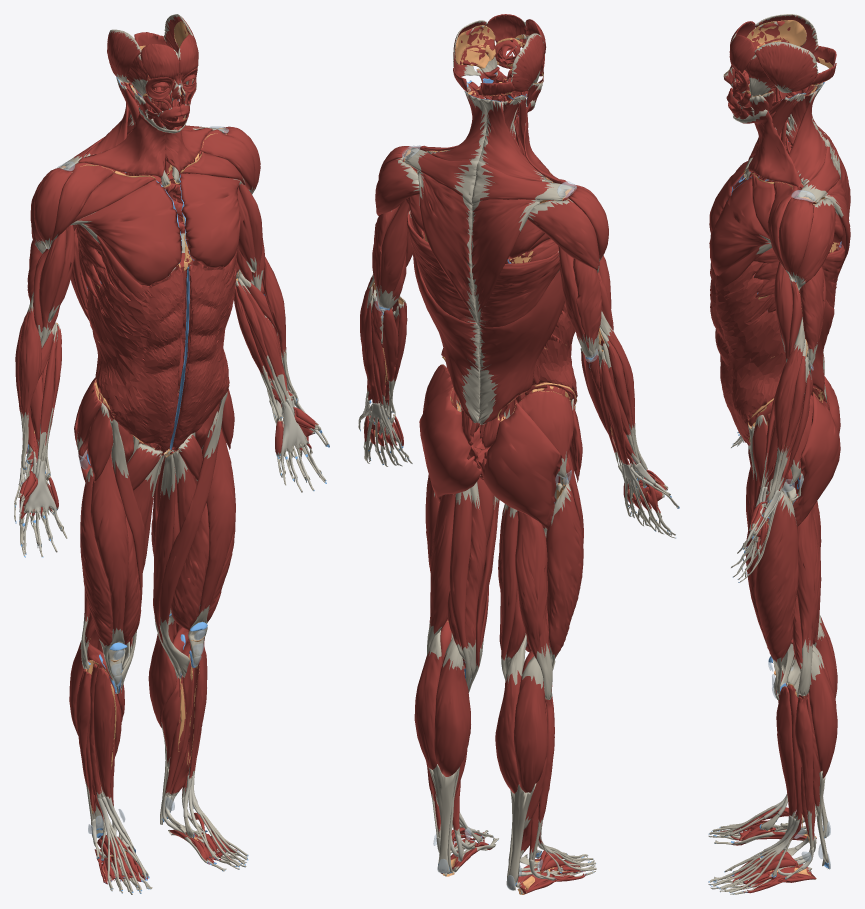
File: adult_male.muscular.LOD1.glb
3 views of the same model, side by side, from view 1: azimuth 30°, elevation 25°; view 2: azimuth 150°, elevation 25°; view 3: azimuth 270°, elevation 25° (orthographic).
Visible parts, largest first — view 1: ADULT.MALE.MUSCULAR.EXTERNAL_ABDOMINAL_OBLIQUE_MUSCLE.R, ADULT.MALE.MUSCULAR.STERNOCOSTAL_HEAD_OF_PECTORALIS_MAJOR_MU (×2), ADULT.MALE.MUSCULAR.EXTERNAL_ABDOMINAL_OBLIQUE_MUSCLE.L, ADULT.MALE.MUSCULAR.RECTUS_FEMORIS_MUSCLE.R, ADULT.MALE.MUSCULAR.RECTUS_FEMORIS_MUSCLE.L, ADULT.MALE.MUSCULAR.SARTORIUS_MUSCLE.L, ADULT.MALE.MUSCULAR.VASTUS_LATERALIS_MUSCLE.R, ADULT.MALE.MUSCULAR.PLATYSMA.R, ADULT.MALE.MUSCULAR.VASTUS_MEDIALIS_MUSCLE.L, ADULT.MALE.MUSCULAR.GRACILIS_MUSCLE.L, ADULT.MALE.MUSCULAR.CLAVICULAR_HEAD_OF_PECTORALIS_MAJOR_MUSC (×2), ADULT.MALE.MUSCULAR.SARTORIUS_MUSCLE.R (+42 smaller); view 2: ADULT.MALE.MUSCULAR.LATISSIMUS_DORSI_MUSCLE.R, ADULT.MALE.MUSCULAR.GLUTEUS_MAXIMUS_MUSCLE.R, ADULT.MALE.MUSCULAR.LATISSIMUS_DORSI_MUSCLE.L, ADULT.MALE.MUSCULAR.DESCENDING_PART_OF_TRAPEZIUS_MUSCLE.L, ADULT.MALE.MUSCULAR.VASTUS_LATERALIS_MUSCLE.R, ADULT.MALE.MUSCULAR.LONG_HEAD_OF_BICEPS_FEMORIS.R, ADULT.MALE.MUSCULAR.GLUTEUS_MAXIMUS_MUSCLE.L, ADULT.MALE.MUSCULAR.DESCENDING_PART_OF_TRAPEZIUS_MUSCLE.R, ADULT.MALE.MUSCULAR.MEDIAL_HEAD_OF_GASTROCNEMIUS.L, ADULT.MALE.MUSCULAR.LATERAL_HEAD_OF_GASTROCNEMIUS.R, ADULT.MALE.MUSCULAR.SCAPULAR_SPINAL_PART_OF_DELTOID_MUSCLE.R, ADULT.MALE.MUSCULAR.SEMITENDINOSUS_MUSCLE.L (+34 smaller); view 3: ADULT.MALE.MUSCULAR.EXTERNAL_ABDOMINAL_OBLIQUE_MUSCLE.L, ADULT.MALE.MUSCULAR.VASTUS_LATERALIS_MUSCLE.L, ADULT.MALE.MUSCULAR.STERNOCOSTAL_HEAD_OF_PECTORALIS_MAJOR_MU (×2), ADULT.MALE.MUSCULAR.GLUTEUS_MAXIMUS_MUSCLE.L, ADULT.MALE.MUSCULAR.LONG_HEAD_OF_BICEPS_FEMORIS.L, ADULT.MALE.MUSCULAR.TEMPOROPARIETALIS_MUSCLE.L, ADULT.MALE.MUSCULAR.LATERAL_HEAD_OF_GASTROCNEMIUS.L, ADULT.MALE.MUSCULAR.PLATYSMA.L, ADULT.MALE.MUSCULAR.BRACHIORADIALIS_MUSCLE.L, ADULT.MALE.MUSCULAR.ACROMIAL_PART_OF_DELTOID_MUSCLE.L, ADULT.MALE.MUSCULAR.SCAPULAR_SPINAL_PART_OF_DELTOID_MUSCLE.L, ADULT.MALE.MUSCULAR.ASCENDING_PART_OF_TRAPEZIUS_MUSCLE.L (+40 smaller).
Part boxes in pixels (x1,y1,x2,y2): ADULT.MALE.MUSCULAR.EXTERNAL_ABDOMINAL_OBLIQUE_MUSCLE.R: (87,251,183,443); ADULT.MALE.MUSCULAR.STERNOCOSTAL_HEAD_OF_PECTORALIS_MAJOR_MU (×2): (70,173,241,285); ADULT.MALE.MUSCULAR.EXTERNAL_ABDOMINAL_OBLIQUE_MUSCLE.L: (176,257,236,440); ADULT.MALE.MUSCULAR.RECTUS_FEMORIS_MUSCLE.R: (90,443,128,686); ADULT.MALE.MUSCULAR.RECTUS_FEMORIS_MUSCLE.L: (188,411,235,667); ADULT.MALE.MUSCULAR.SARTORIUS_MUSCLE.L: (159,392,227,677); ADULT.MALE.MUSCULAR.VASTUS_LATERALIS_MUSCLE.R: (80,467,113,679); ADULT.MALE.MUSCULAR.PLATYSMA.R: (78,107,177,177); ADULT.MALE.MUSCULAR.VASTUS_MEDIALIS_MUSCLE.L: (171,503,209,651); ADULT.MALE.MUSCULAR.GRACILIS_MUSCLE.L: (153,451,180,678); ADULT.MALE.MUSCULAR.CLAVICULAR_HEAD_OF_PECTORALIS_MAJOR_MUSC (×2): (71,151,245,223); ADULT.MALE.MUSCULAR.SARTORIUS_MUSCLE.R: (109,418,144,692); ADULT.MALE.MUSCULAR.LATISSIMUS_DORSI_MUSCLE.R: (478,250,564,424); ADULT.MALE.MUSCULAR.GLUTEUS_MAXIMUS_MUSCLE.R: (481,402,562,528); ADULT.MALE.MUSCULAR.LATISSIMUS_DORSI_MUSCLE.L: (406,210,480,423); ADULT.MALE.MUSCULAR.DESCENDING_PART_OF_TRAPEZIUS_MUSCLE.L: (417,170,478,326); ADULT.MALE.MUSCULAR.VASTUS_LATERALIS_MUSCLE.R: (546,477,583,667); ADULT.MALE.MUSCULAR.LONG_HEAD_OF_BICEPS_FEMORIS.R: (515,510,552,699); ADULT.MALE.MUSCULAR.GLUTEUS_MAXIMUS_MUSCLE.L: (419,387,481,501); ADULT.MALE.MUSCULAR.DESCENDING_PART_OF_TRAPEZIUS_MUSCLE.R: (471,199,542,326); ADULT.MALE.MUSCULAR.MEDIAL_HEAD_OF_GASTROCNEMIUS.L: (434,637,470,776); ADULT.MALE.MUSCULAR.LATERAL_HEAD_OF_GASTROCNEMIUS.R: (513,656,547,792); ADULT.MALE.MUSCULAR.SCAPULAR_SPINAL_PART_OF_DELTOID_MUSCLE.R: (527,198,599,272); ADULT.MALE.MUSCULAR.SEMITENDINOSUS_MUSCLE.L: (449,488,472,687); ADULT.MALE.MUSCULAR.EXTERNAL_ABDOMINAL_OBLIQUE_MUSCLE.L: (710,261,785,441); ADULT.MALE.MUSCULAR.VASTUS_LATERALIS_MUSCLE.L: (755,491,798,694); ADULT.MALE.MUSCULAR.STERNOCOSTAL_HEAD_OF_PECTORALIS_MAJOR_MU (×2): (709,161,770,275); ADULT.MALE.MUSCULAR.GLUTEUS_MAXIMUS_MUSCLE.L: (793,393,840,526); ADULT.MALE.MUSCULAR.LONG_HEAD_OF_BICEPS_FEMORIS.L: (797,508,821,696); ADULT.MALE.MUSCULAR.TEMPOROPARIETALIS_MUSCLE.L: (754,41,818,92); ADULT.MALE.MUSCULAR.LATERAL_HEAD_OF_GASTROCNEMIUS.L: (809,651,837,778); ADULT.MALE.MUSCULAR.PLATYSMA.L: (733,109,801,188); ADULT.MALE.MUSCULAR.BRACHIORADIALIS_MUSCLE.L: (767,317,804,502); ADULT.MALE.MUSCULAR.ACROMIAL_PART_OF_DELTOID_MUSCLE.L: (778,198,813,281); ADULT.MALE.MUSCULAR.SCAPULAR_SPINAL_PART_OF_DELTOID_MUSCLE.L: (796,199,835,290); ADULT.MALE.MUSCULAR.ASCENDING_PART_OF_TRAPEZIUS_MUSCLE.L: (789,82,826,185).
Size of the model in its own units: 0.6605 by 1.67 by 0.2585.
